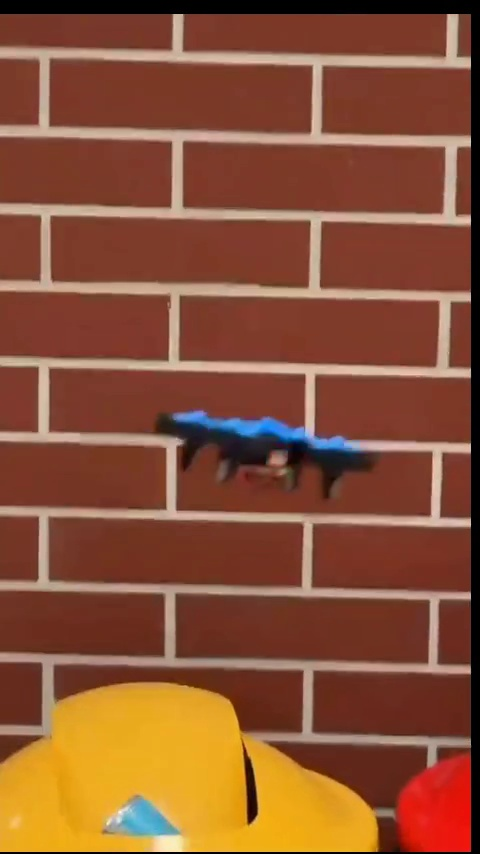drone: (151, 413, 378, 501)
